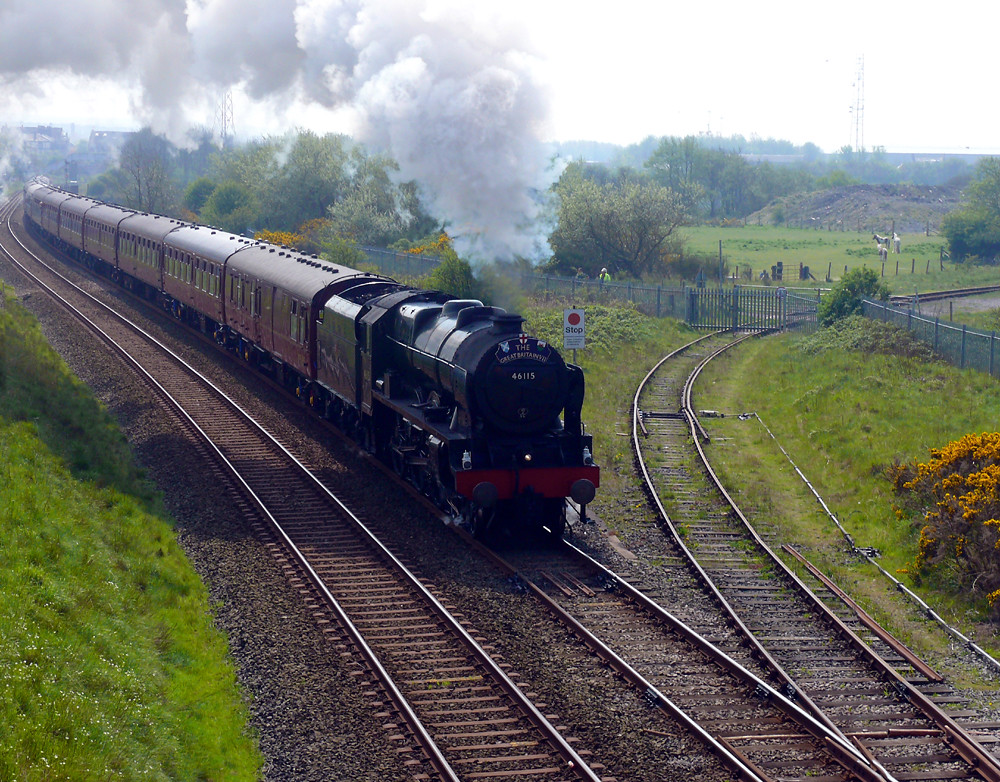train: (37, 181, 600, 583)
